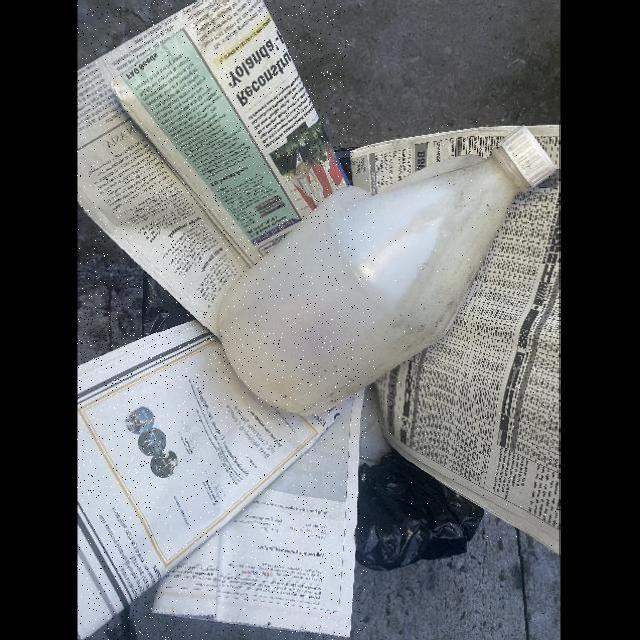paper: (78, 1, 349, 333), (78, 319, 345, 640), (376, 121, 560, 555), (151, 385, 368, 638), (350, 123, 522, 193)
plastic: (218, 127, 556, 415)
